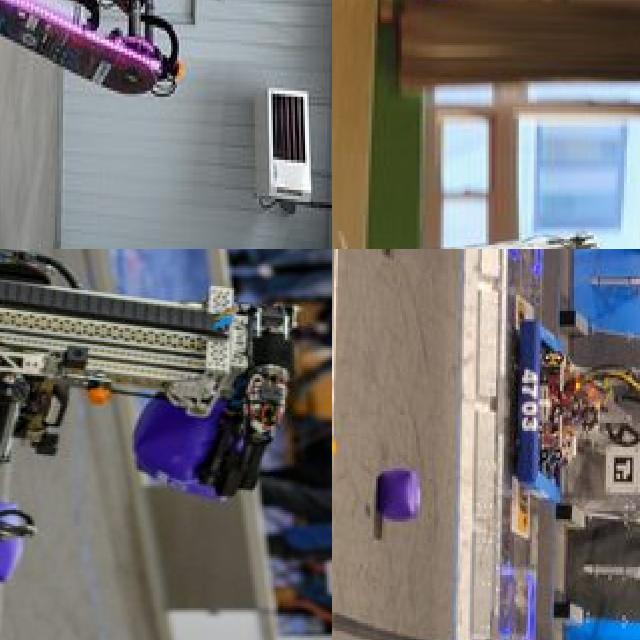FRC-Robots: (0, 249, 302, 606), (0, 0, 239, 190), (492, 314, 640, 530), (332, 153, 614, 249)
